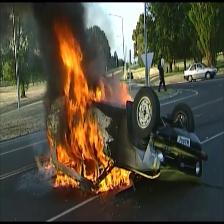fire: (50, 18, 135, 197)
smoke: (5, 3, 112, 106)
